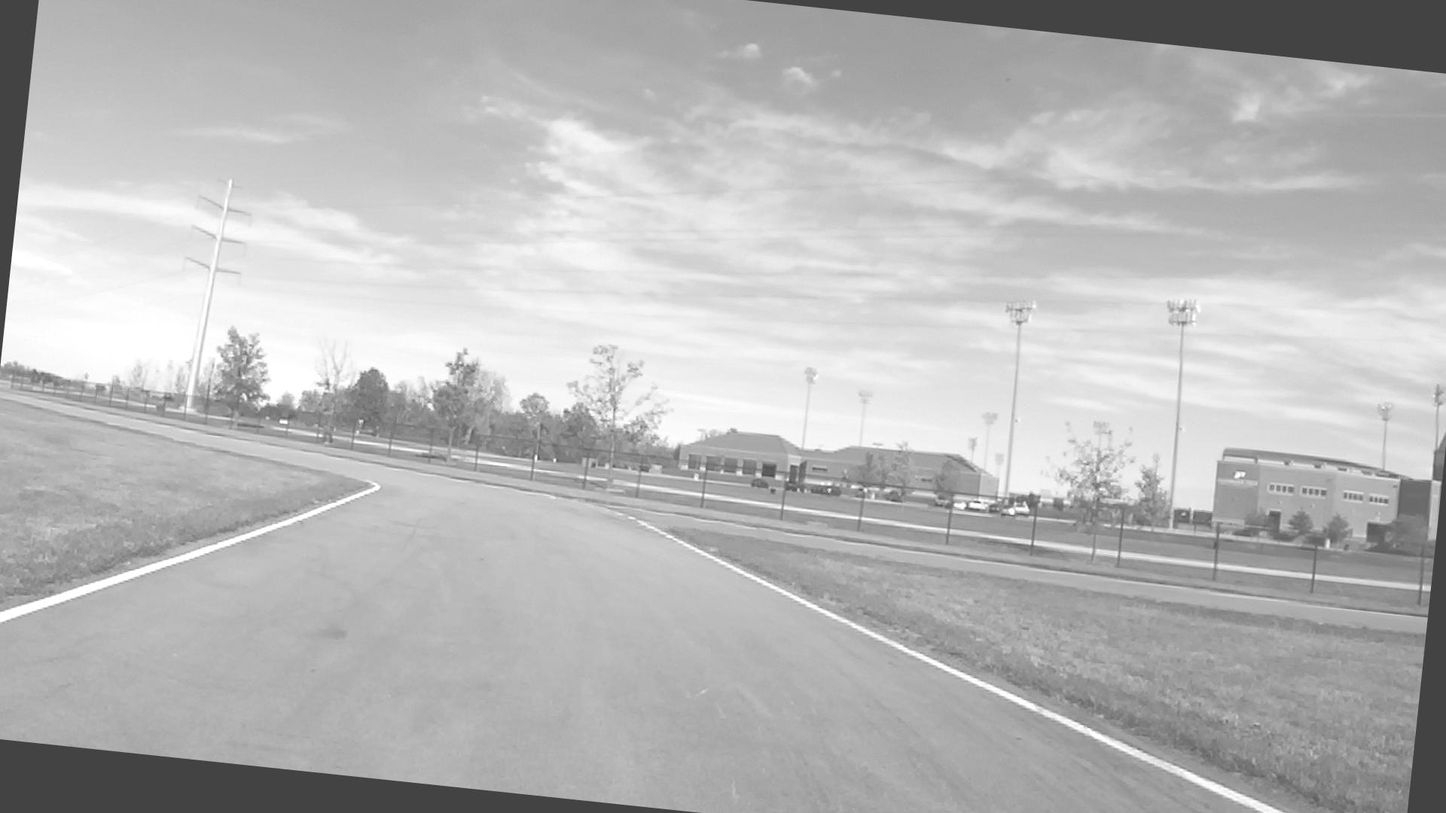white-line: (629, 518, 1292, 813), (0, 479, 380, 622)
